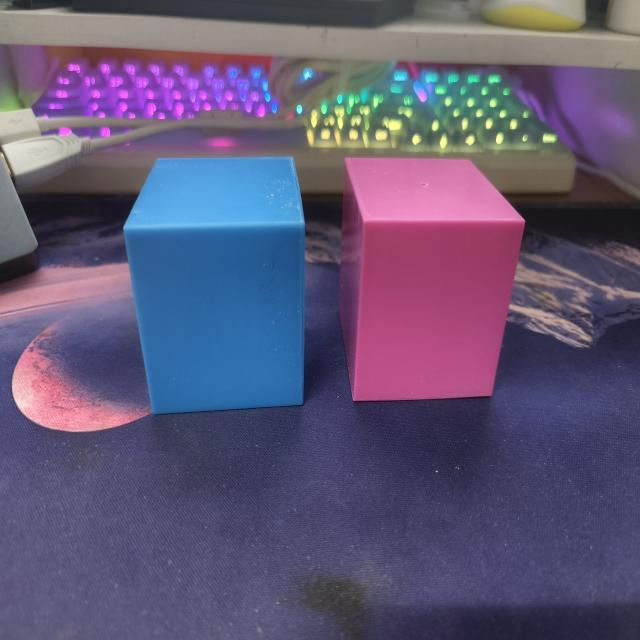blue: (122, 155, 307, 417)
pink: (339, 157, 526, 405)
